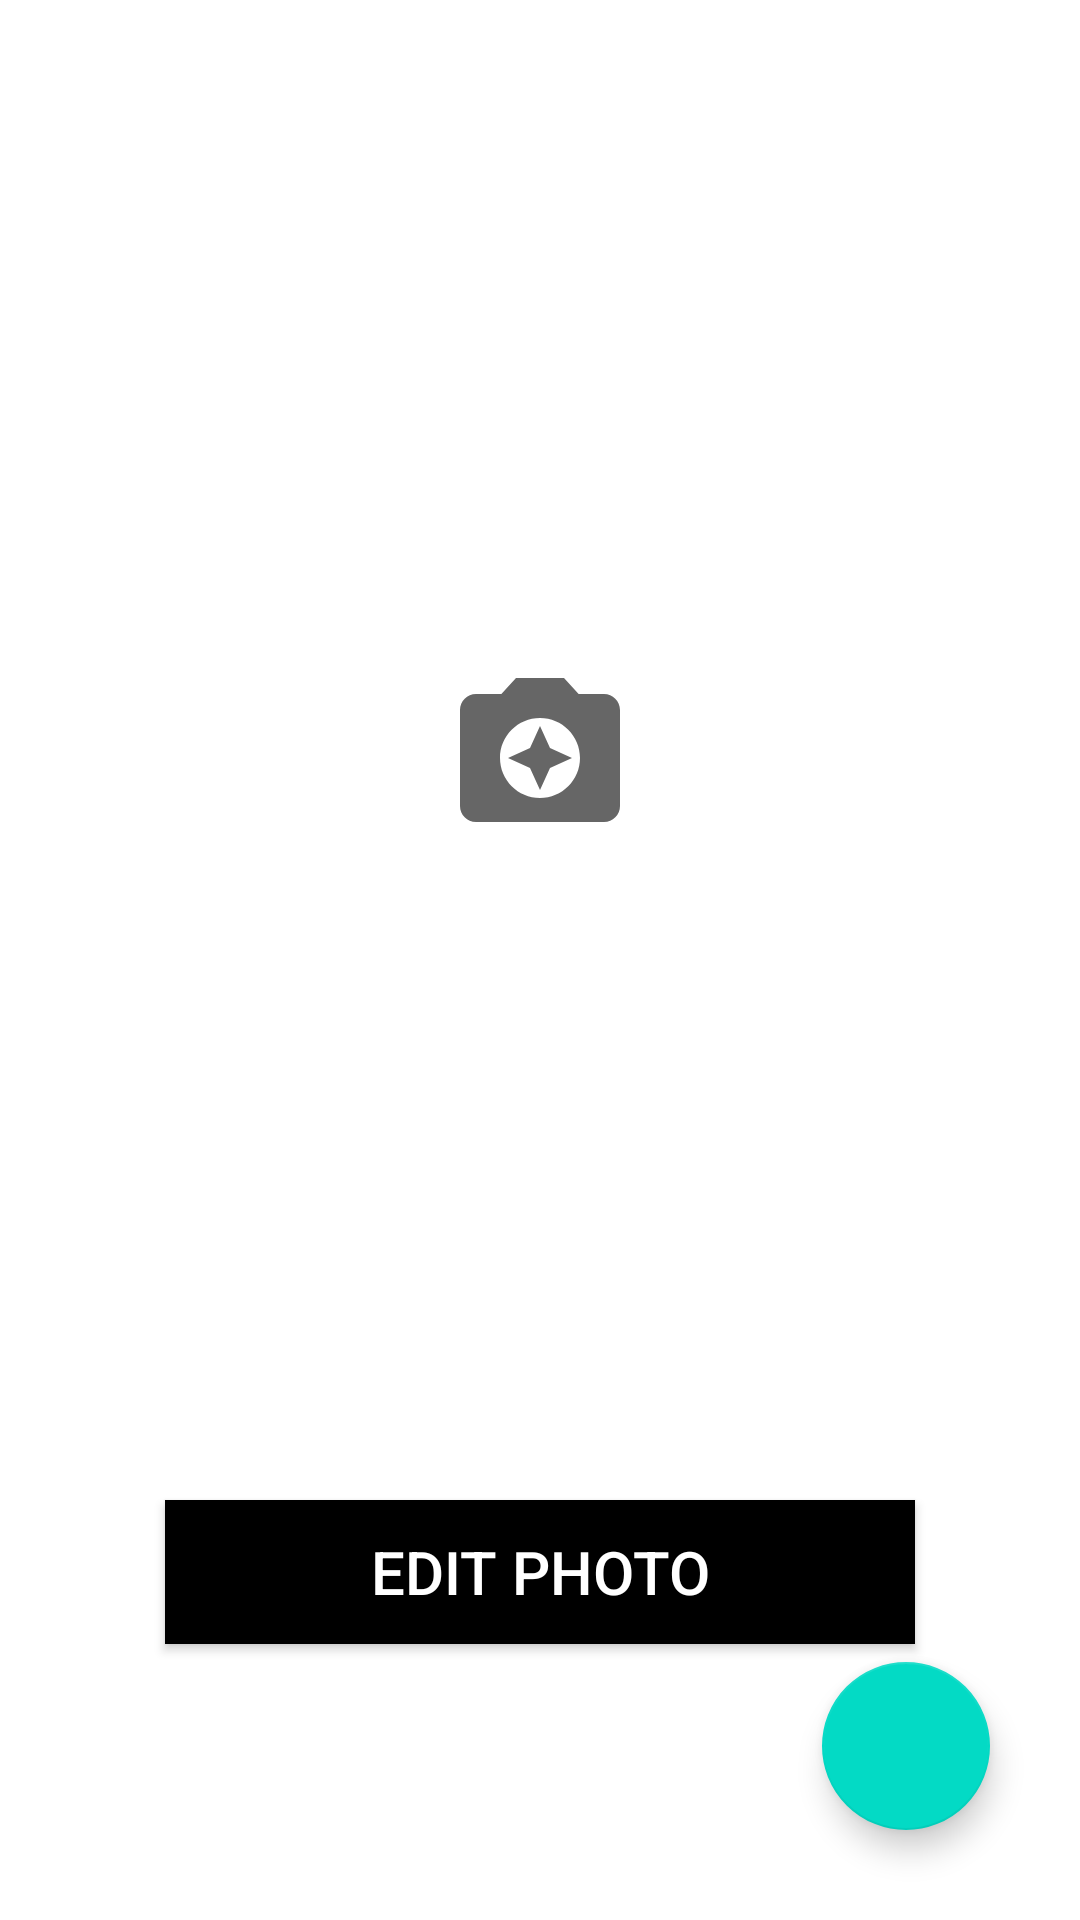

Icons on this 1080w x 1920h Android screen, each with its box as (x1, y1, x2, y2):
camera enhance: (460, 678, 620, 822)
